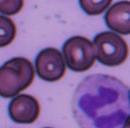N: (72, 72, 130, 127)
